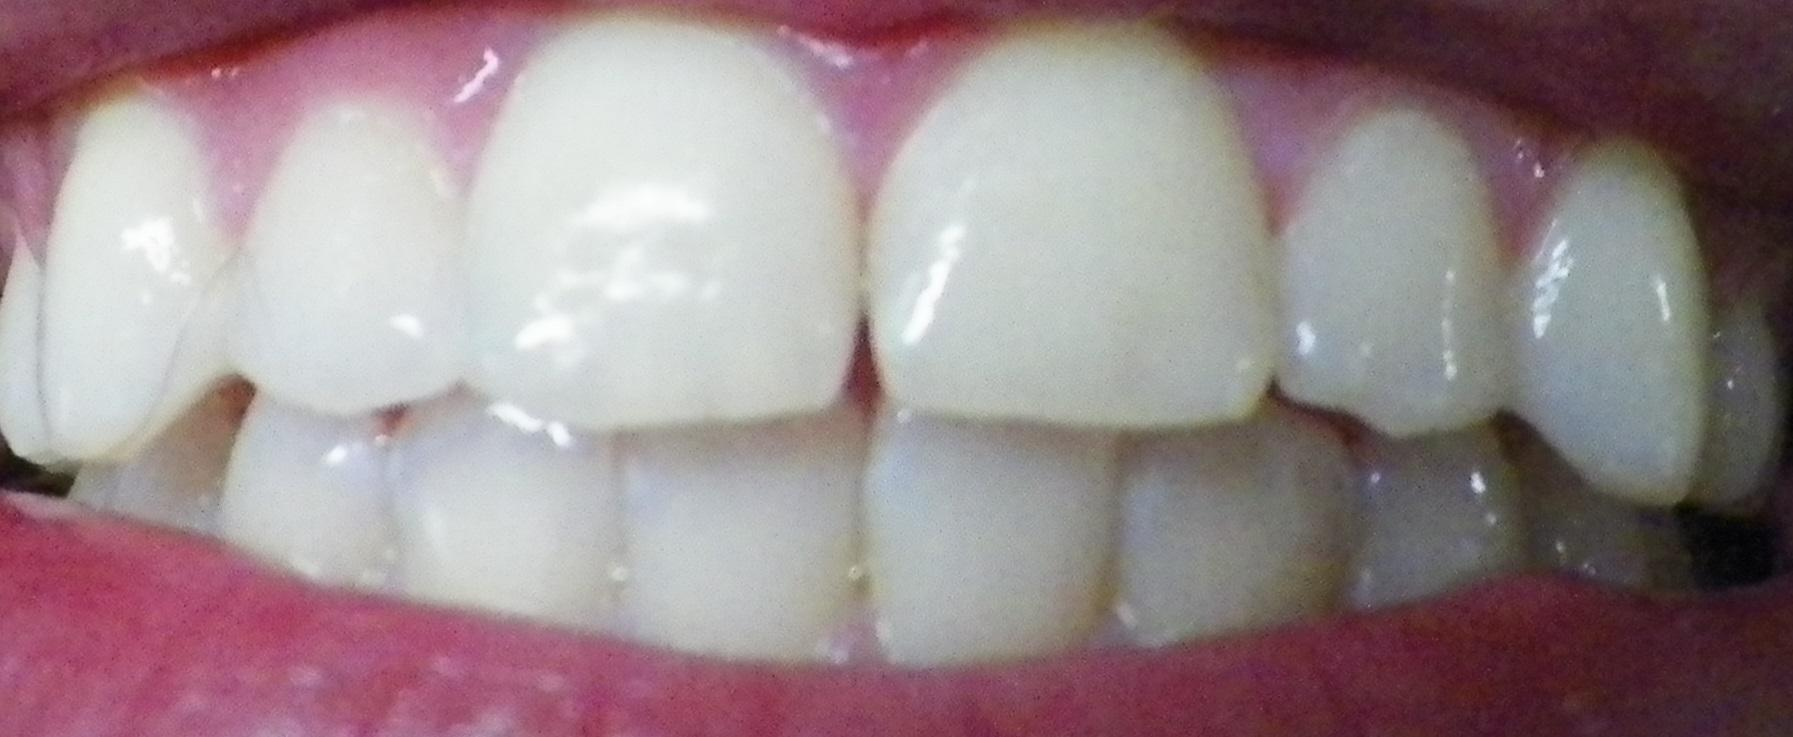normal: (459, 3, 871, 476), (856, 13, 1291, 438), (1253, 78, 1528, 457), (220, 63, 481, 439), (1500, 120, 1736, 521), (35, 61, 244, 498), (839, 395, 1153, 683), (605, 380, 891, 680), (1091, 393, 1376, 664), (381, 375, 642, 644), (1326, 404, 1546, 628), (214, 383, 406, 611), (1672, 183, 1791, 544), (1503, 428, 1703, 610), (61, 372, 252, 543), (0, 218, 54, 508)
